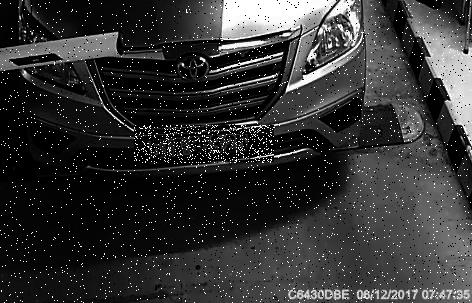License-plate: (135, 127, 275, 165)
